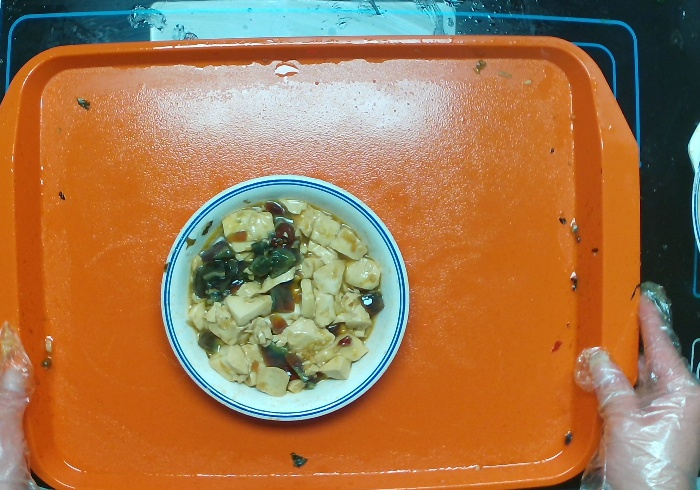HZYJPL-Lan_Bian_Yuan_Die: (159, 172, 410, 423)
